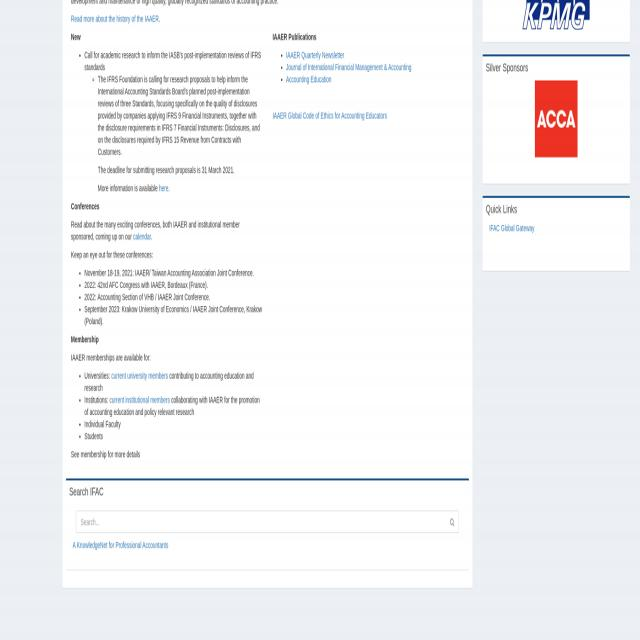button: (534, 80, 578, 158), (522, 0, 590, 30), (446, 511, 458, 532)
field: (76, 511, 446, 532)
